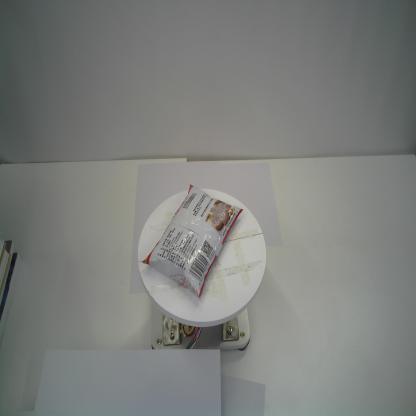Seasoner: (136, 182, 245, 300)
